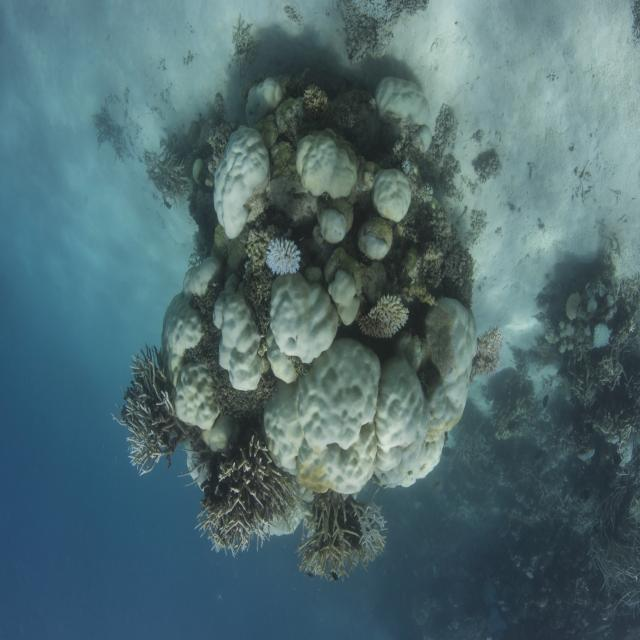Bleached Coral: (261, 360, 447, 490), (158, 288, 215, 434), (200, 129, 270, 234), (261, 273, 333, 355), (437, 295, 480, 415), (210, 288, 256, 398), (294, 129, 352, 195), (380, 67, 433, 131), (261, 228, 305, 285), (368, 172, 411, 221), (178, 241, 216, 296), (379, 301, 411, 331), (361, 234, 389, 258), (558, 322, 574, 352), (594, 324, 610, 348)
